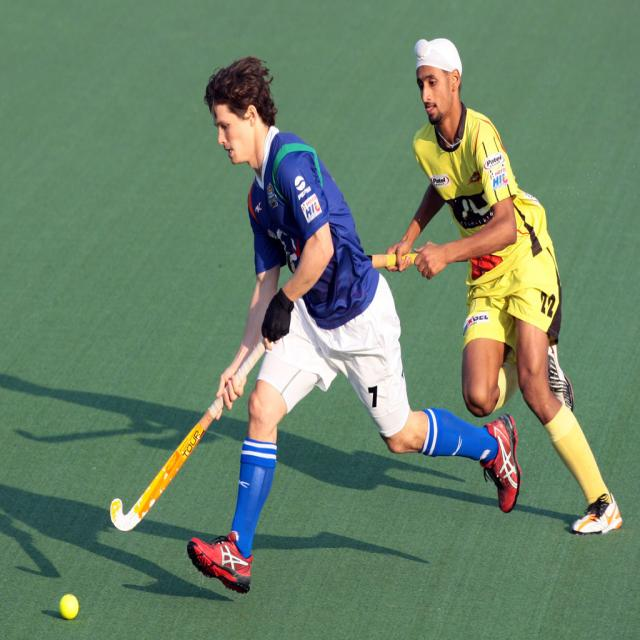Ball: (59, 594, 79, 619)
